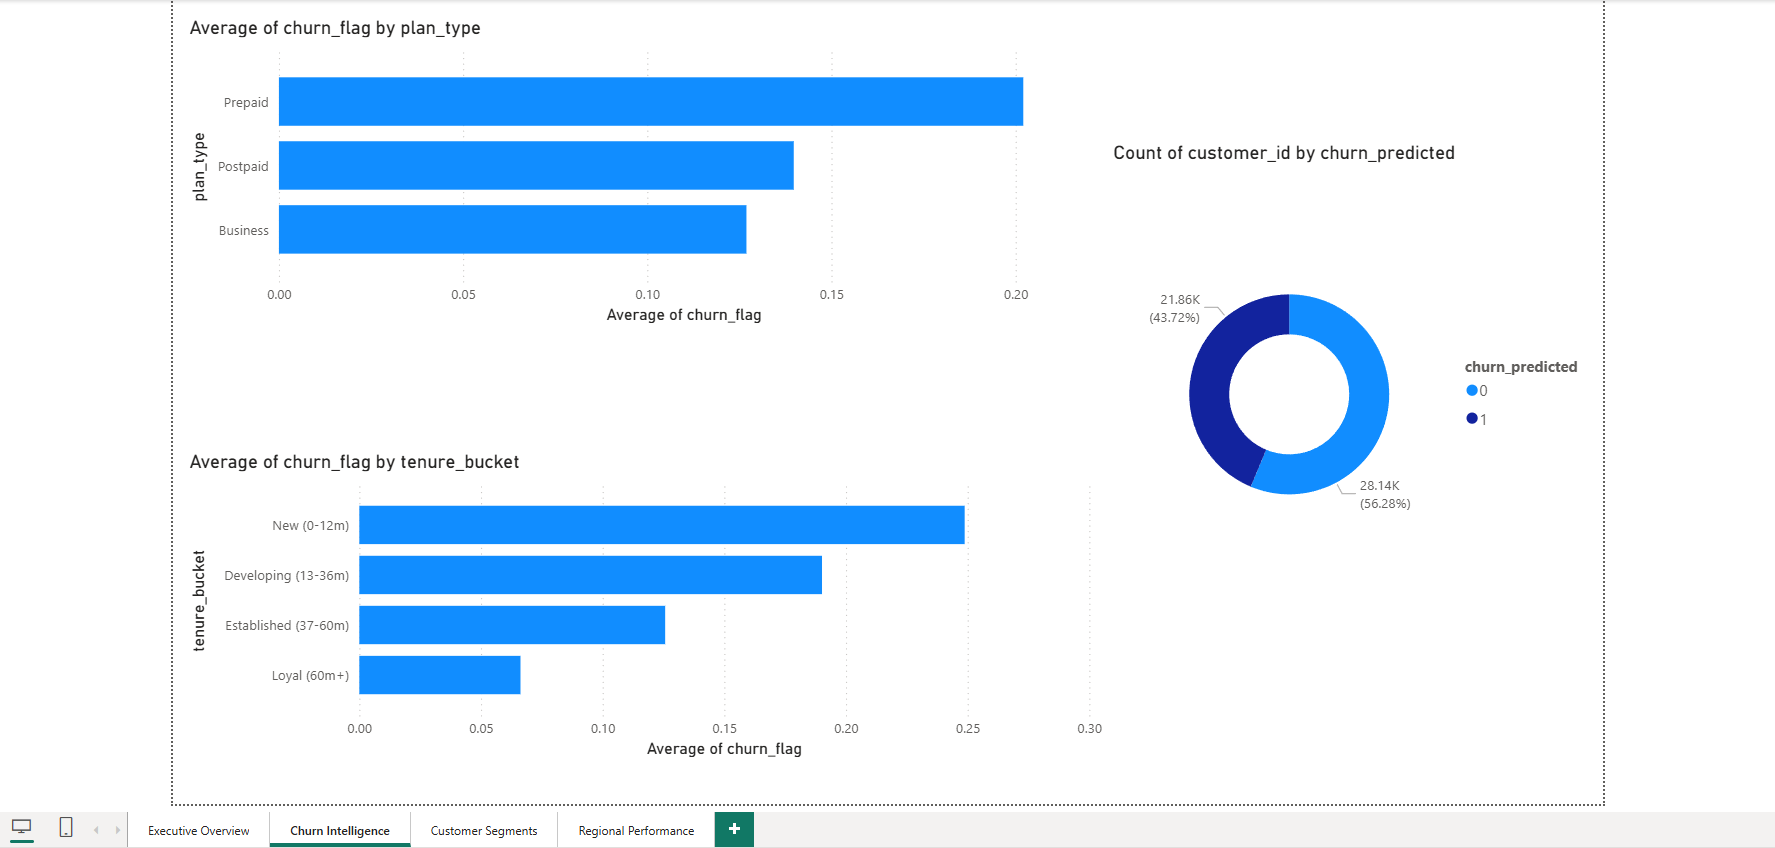

This screenshot's page, from the dashboard's own definition file:
{"tool":"powerbi","page":{"name":"Churn Intelligence","canvas":[1280,720],"ordinal":1},"visuals":[{"type":"clusteredBarChart","fields":{"Category":["telecom_segmented.plan_type"],"Y":["Avg(telecom_segmented.churn_flag)"]},"box":[9.7,14.6,827.7,280.1],"z":0},{"type":"clusteredBarChart","fields":{"Category":["telecom_segmented.tenure_bucket"],"Y":["Avg(telecom_segmented.churn_flag)"]},"box":[9.7,402.7,827.7,280.1],"z":1},{"type":"donutChart","fields":{"Category":["telecom_segmented.churn_predicted"],"Y":["CountNonNull(telecom_segmented.customer_id)"]},"box":[837.4,126.4,442.6,434.8],"z":2}]}

Visuals, with their boxes on the page's 1280x720 design canvas (x1, y1, x2, y2). These are canvas units, not pixel positions in the 1775x848 screenshot, which may show the page scaled, cropped or inside an application window:
clusteredBarChart - telecom_segmented.plan_type x Avg(telecom_segmented.churn_flag): 10 15 837 295
clusteredBarChart - telecom_segmented.tenure_bucket x Avg(telecom_segmented.churn_flag): 10 403 837 683
donutChart - telecom_segmented.churn_predicted x CountNonNull(telecom_segmented.customer_id): 837 126 1280 561
